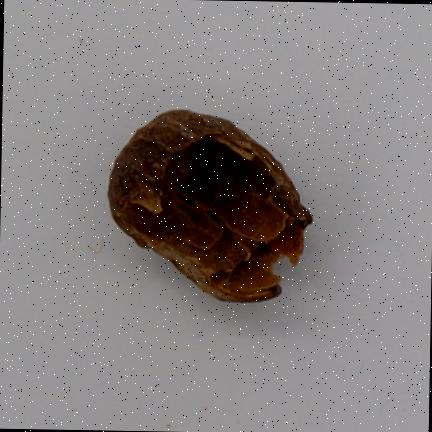full-black: (108, 110, 312, 301)
